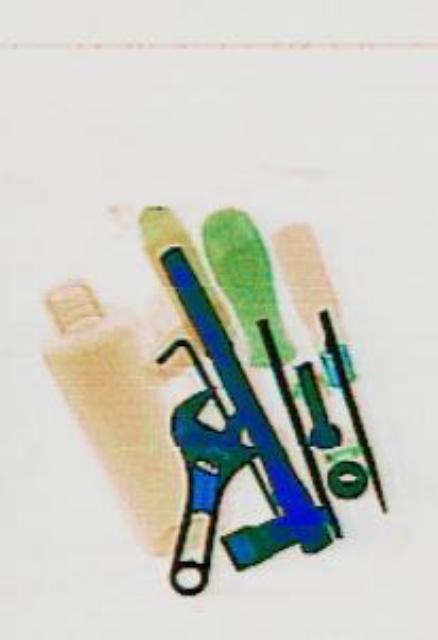Wrench: (135, 370, 263, 608)
